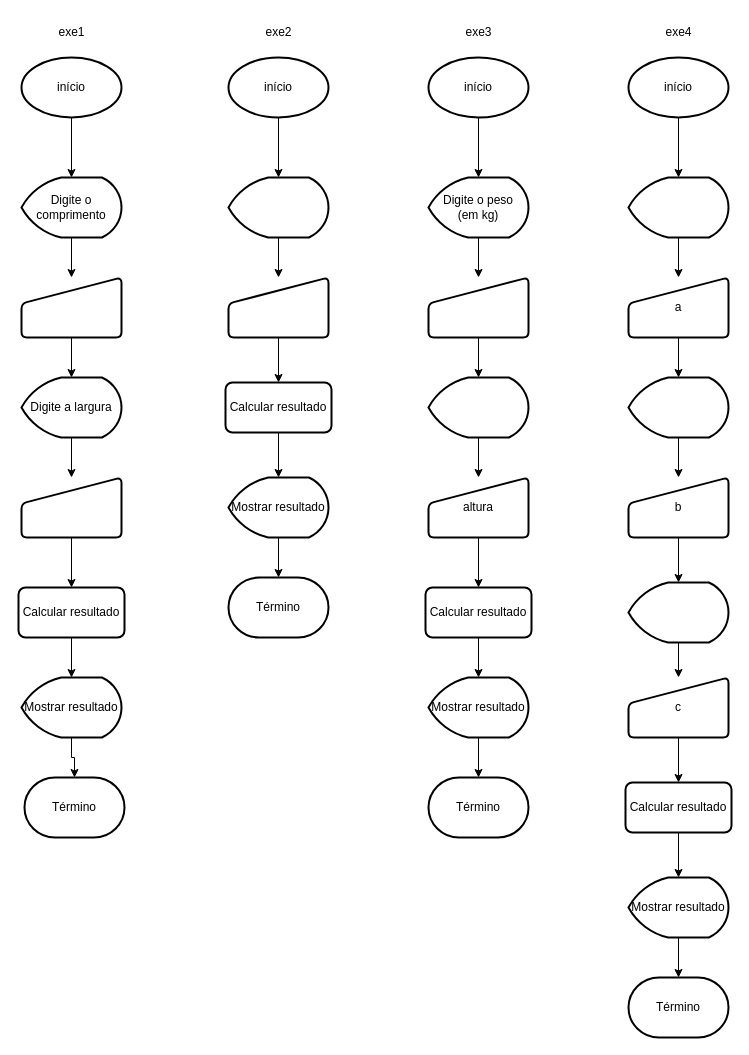
This 749x1055 diagram has some shape labels left out. The centre of each missing label's shape, as x and y in pixels:
comprimento: (71,307)
Digite a altura (em m): (478,407)
Digite o raio: (278,207)
Digite o valor de a: (678,207)
Digite o valor de b: (678,407)
Digite o valor de c: (678,612)
largura: (71,507)
peso: (478,307)
raio: (278,307)
